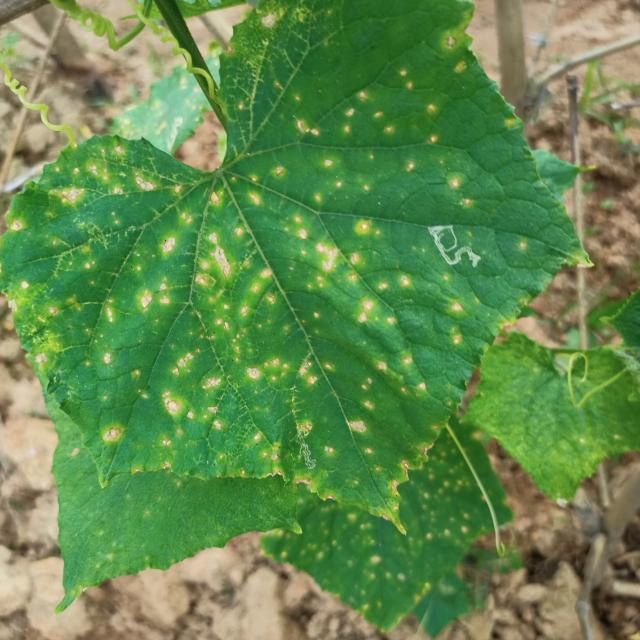disease_cucumber: (39, 15, 511, 499)
